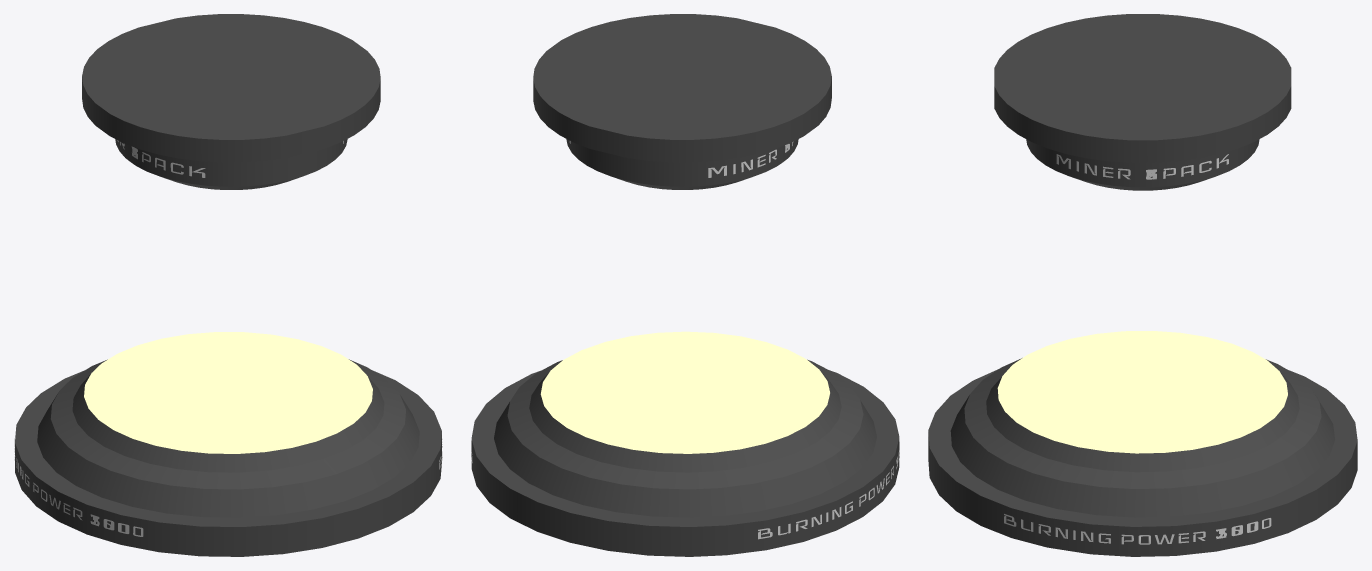
File: Miners_Stand.fbx
The picture shows the model from 3 angles, left to right: view 1: azimuth 30°, elevation 25°; view 2: azimuth 150°, elevation 25°; view 3: azimuth 270°, elevation 25°; orthographic projection.
Parts seen in each view (by area): view 1: Cylinder.027; view 2: Cylinder.027, Text.011; view 3: Cylinder.027, Text.011, Text.026.
Part boxes in pixels (x1,y1,x2,y2): Cylinder.027: (15,14,441,556); Cylinder.027: (471,14,899,556); Text.011: (471,442,899,539); Cylinder.027: (928,14,1357,556); Text.011: (1004,514,1258,544); Text.026: (1056,154,1228,179).
Bounding box in the file's own units: 2089 × 2093 × 2085.
